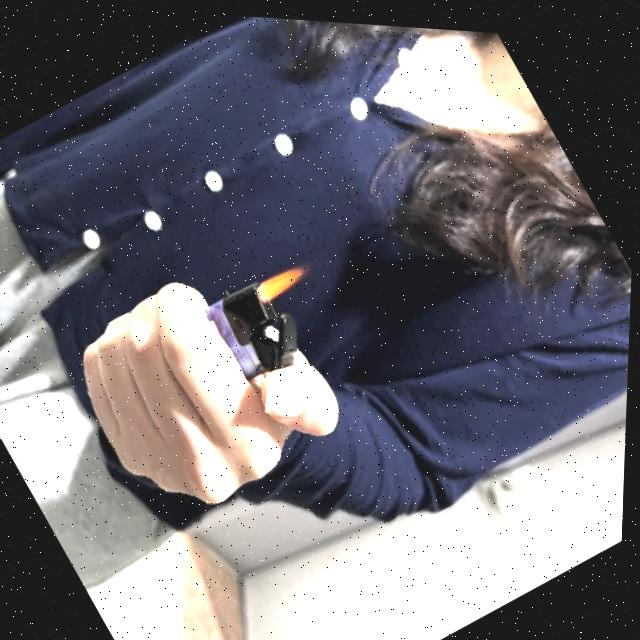Fire: (253, 248, 318, 304)
